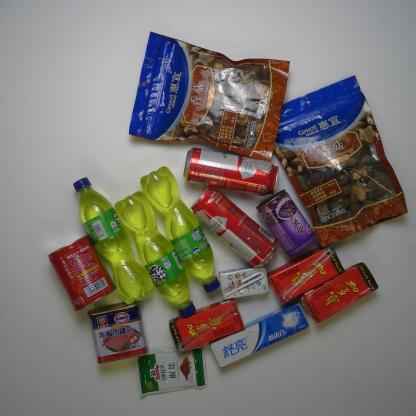Alcohol: (185, 183, 276, 268), (174, 146, 280, 196)
Canned Food: (42, 230, 118, 314), (84, 294, 148, 367), (255, 185, 315, 255)
Dried Food: (259, 74, 409, 250), (128, 30, 291, 162)
Drink: (68, 168, 155, 307), (137, 164, 222, 296), (114, 190, 195, 320), (300, 260, 382, 325), (265, 243, 350, 305), (166, 295, 246, 355)
Milk: (214, 263, 269, 305)
Personal Hygiene: (212, 300, 310, 368)
Seasoner: (131, 339, 209, 398)
